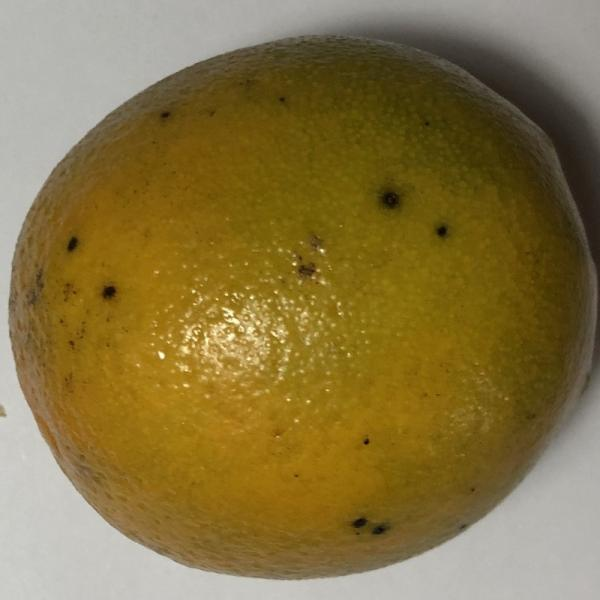Machas negras: (0, 7, 597, 580)
